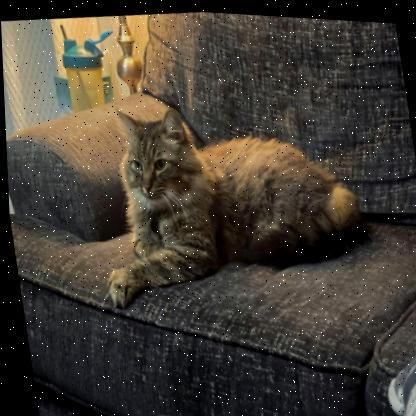cat: (113, 90, 361, 266)
